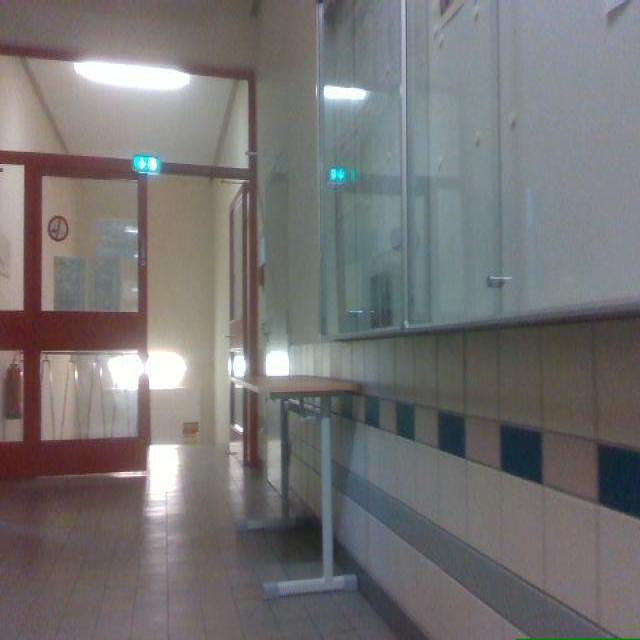objects: (232, 375, 360, 597)
